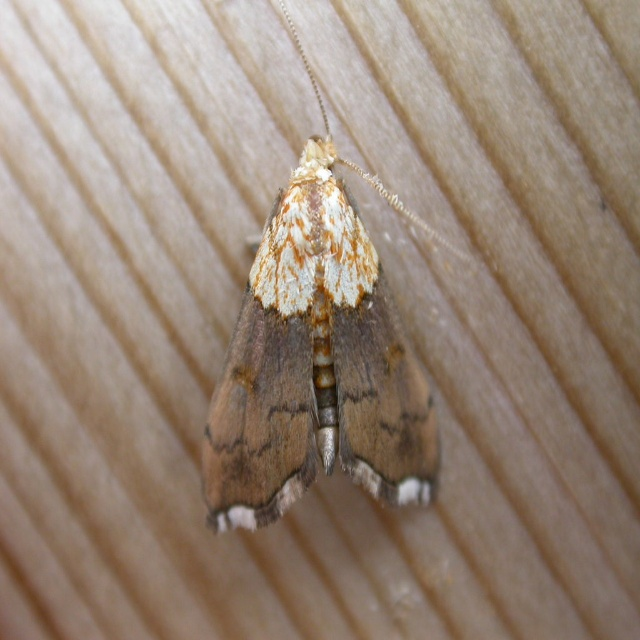Moths and butterflies: (200, 0, 479, 539)
